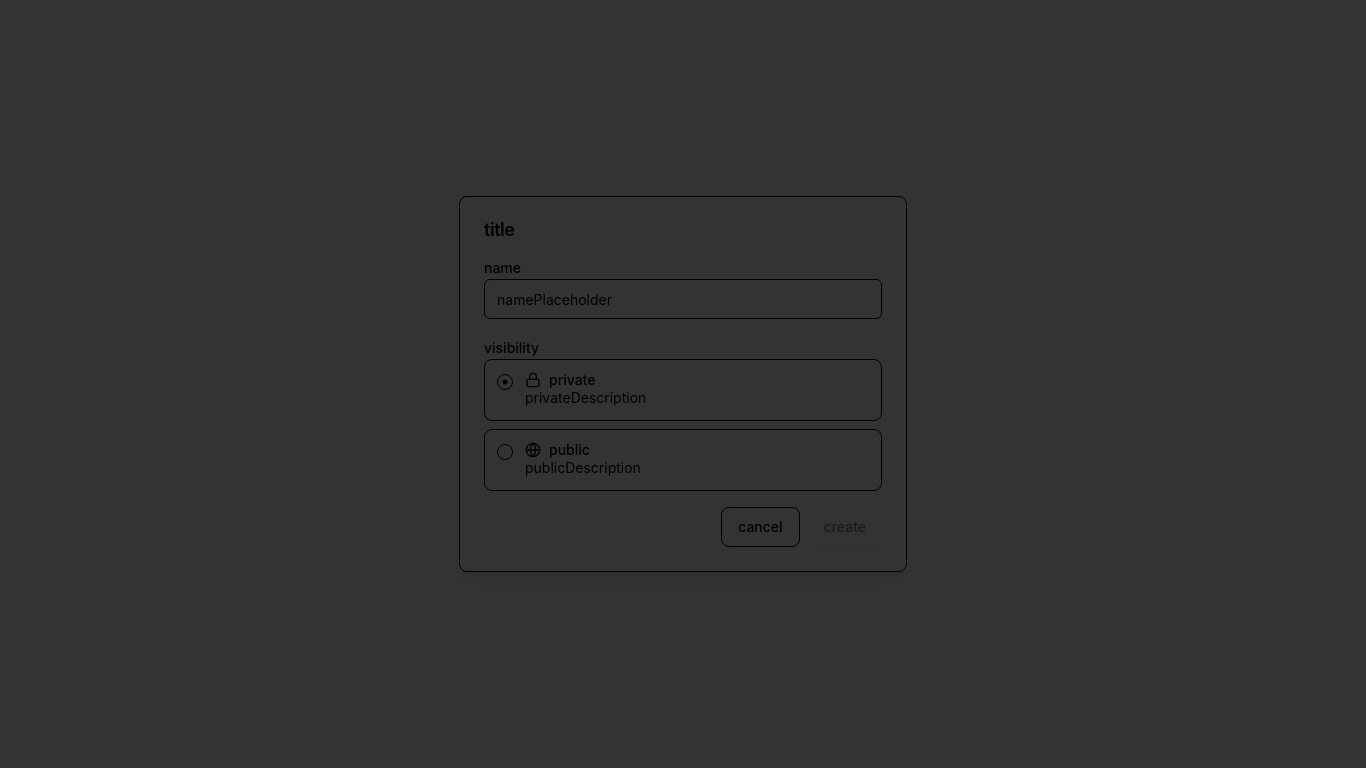
Test: CreateListDialog › enables create button when name is entered
Type "My List" into the field labelled "name" at (683, 299), box [484,279,882,319]
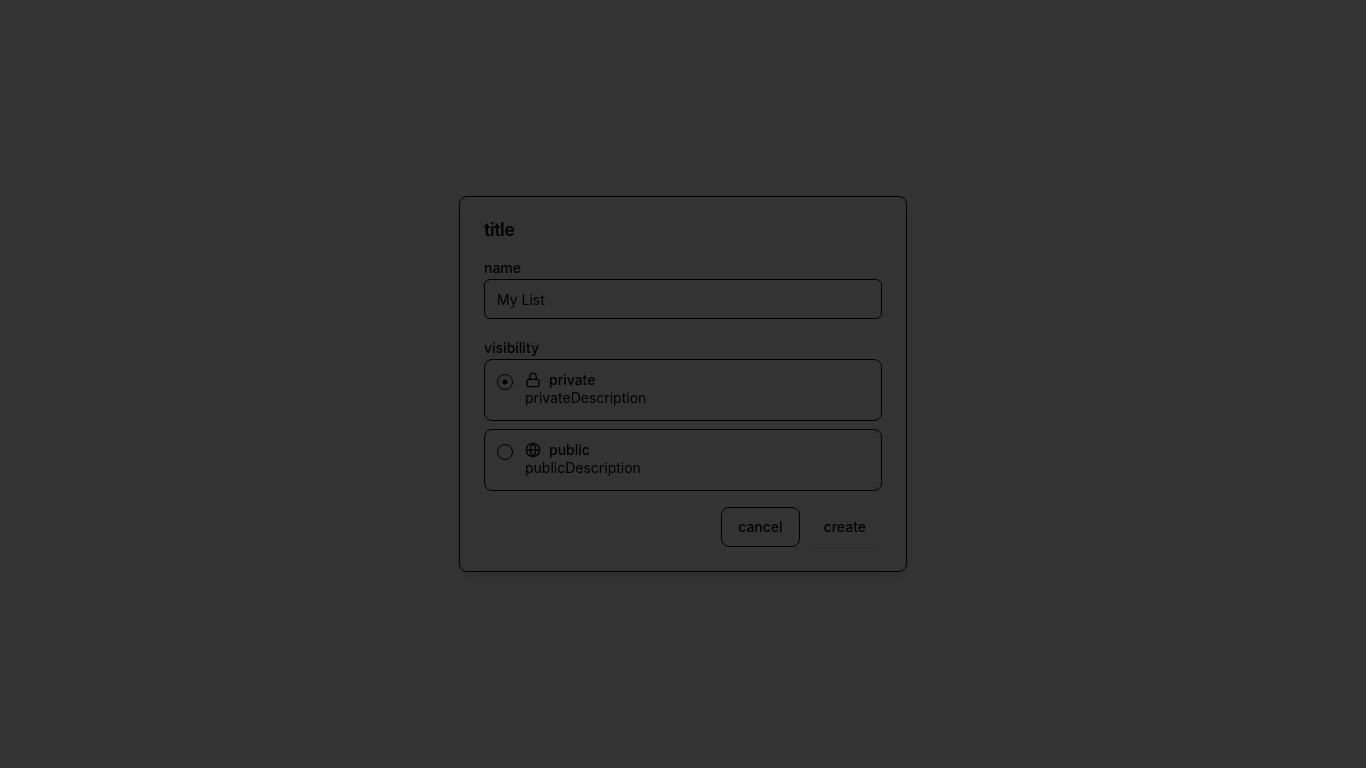
Check: the button "create" is enabled, box [808,507,882,547]
